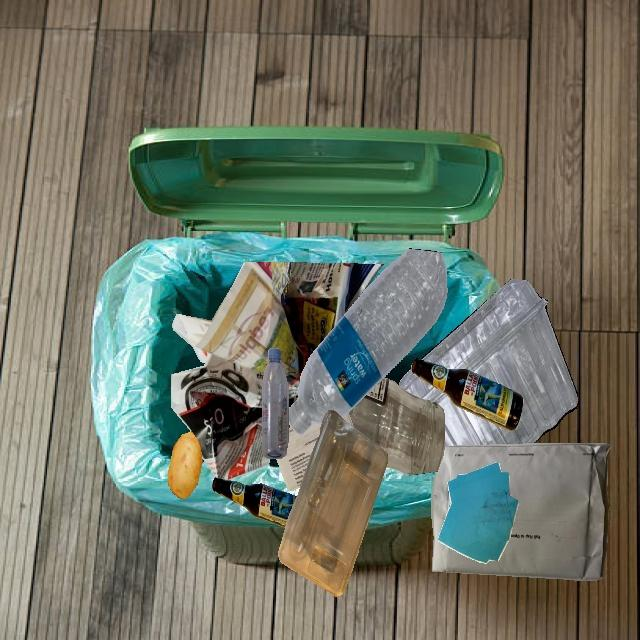biowaste: (168, 431, 203, 498)
glass: (348, 377, 445, 475), (411, 358, 523, 431), (212, 478, 297, 528)
paper: (171, 262, 383, 480), (432, 443, 611, 580), (438, 462, 519, 564), (276, 423, 322, 491)
plastic: (398, 279, 578, 446), (288, 248, 447, 435), (278, 410, 388, 597), (262, 348, 288, 459), (295, 487, 300, 496), (347, 304, 353, 311)
